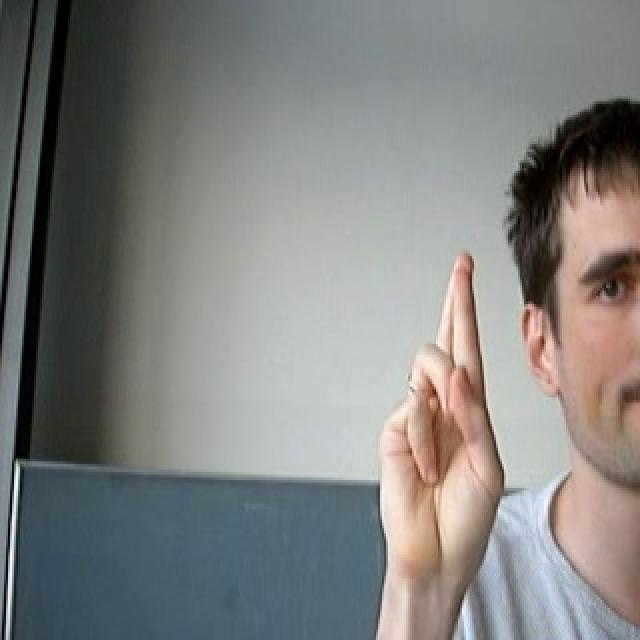R: (369, 239, 512, 590)
